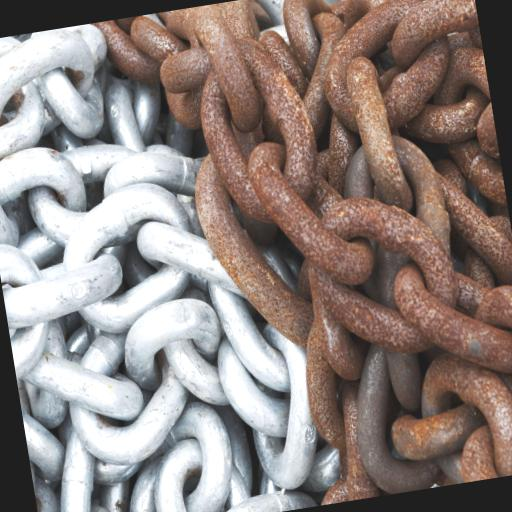segmentation: (166, 154, 330, 360), (344, 73, 414, 215)
